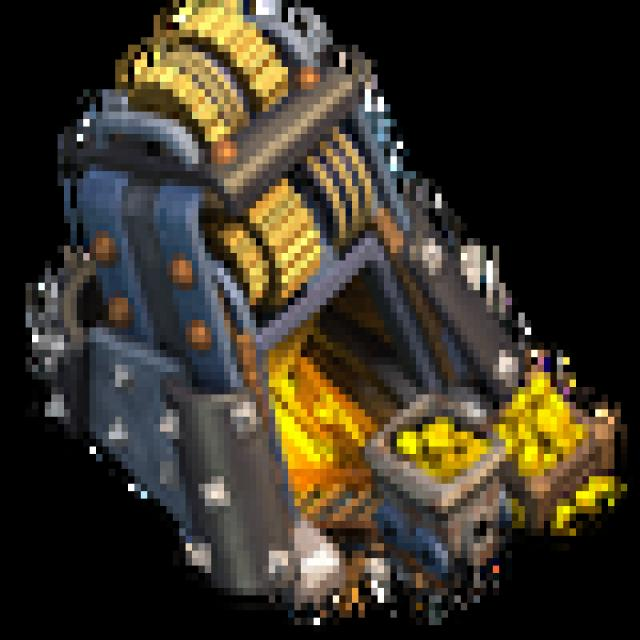gold_mine: (0, 1, 640, 614)
